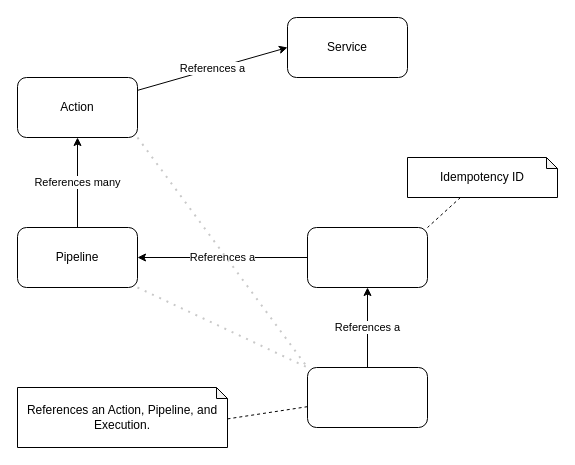
This 575x465 diagram has some shape labels left out. The shapes that lost their labels are listed below. From the top down, each one's centre as x and y in pixels, then its label:
[367,257]: Execution
[367,397]: ExecutionStep
